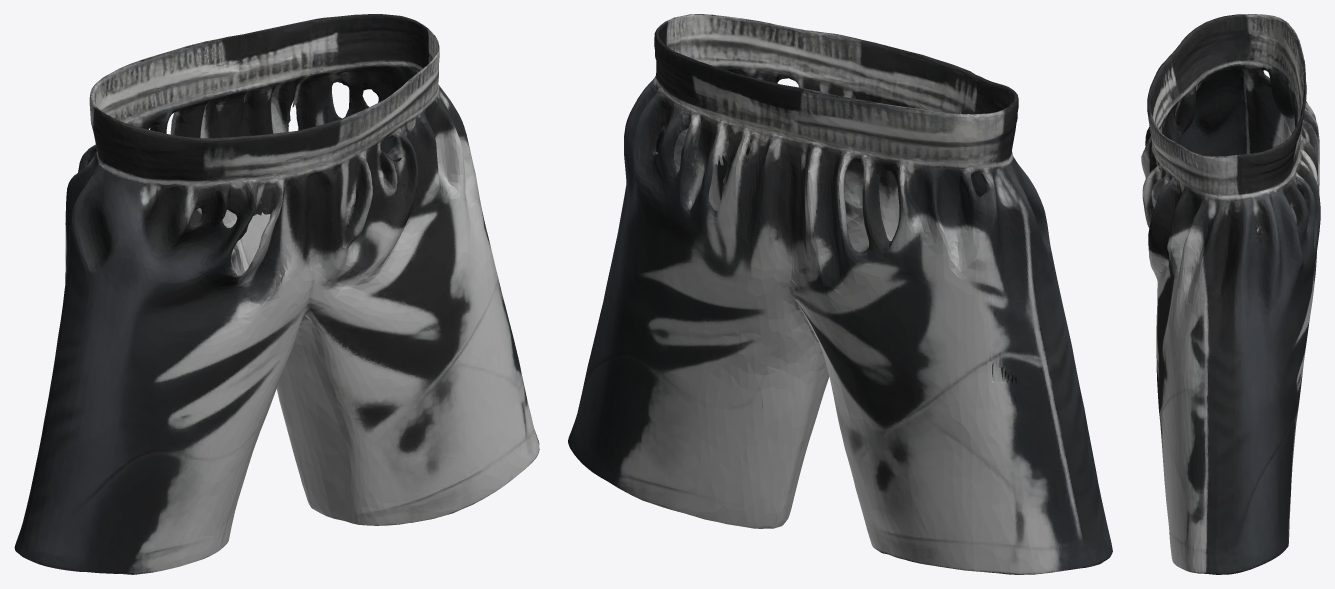
File: fight-short.glb
3 renders of one model, left to right at view 1: azimuth 30°, elevation 25°; view 2: azimuth 150°, elevation 25°; view 3: azimuth 270°, elevation 25°, orthographic. The views are drawn at different scales.
Visible parts, largest first — view 1: geometry_0; view 2: geometry_0; view 3: geometry_0.
Boxes of the visible parts, x1,y1,x2,y2 form: geometry_0: (14,14,539,574); geometry_0: (568,14,1112,574); geometry_0: (1141,14,1320,574).
Size of the model in its own units: 0.9979 by 0.859 by 0.3394.
Materials: 1 (1 with a texture image).
